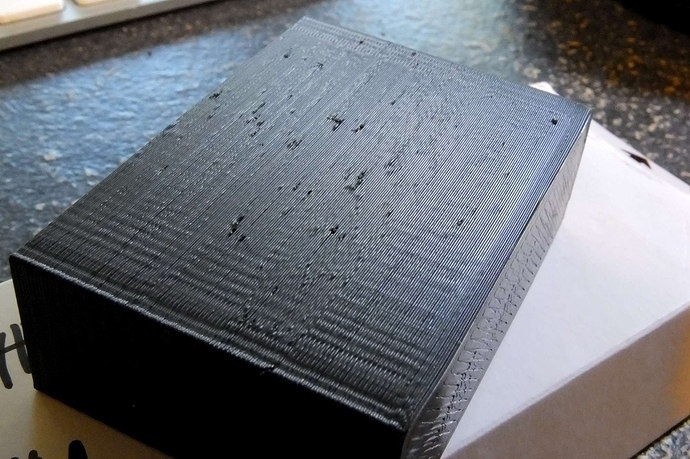blob: (231, 299, 311, 350), (233, 97, 295, 151), (308, 221, 384, 252), (326, 175, 394, 206), (296, 259, 362, 290), (221, 211, 256, 253), (328, 102, 360, 143)
